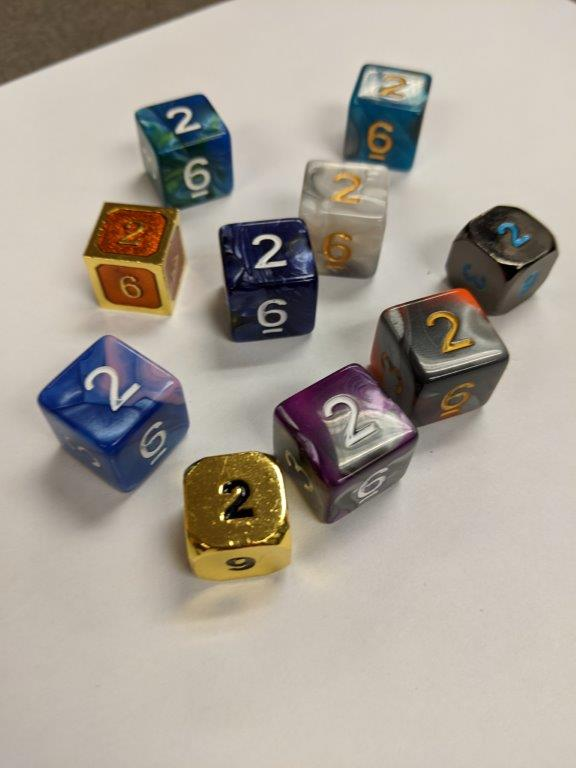d6-2: (38, 334, 190, 493), (274, 361, 420, 524), (371, 286, 509, 434), (183, 454, 292, 584), (218, 213, 319, 347), (442, 204, 561, 317), (133, 91, 236, 212), (82, 200, 185, 319), (298, 158, 388, 282), (342, 60, 433, 172)
